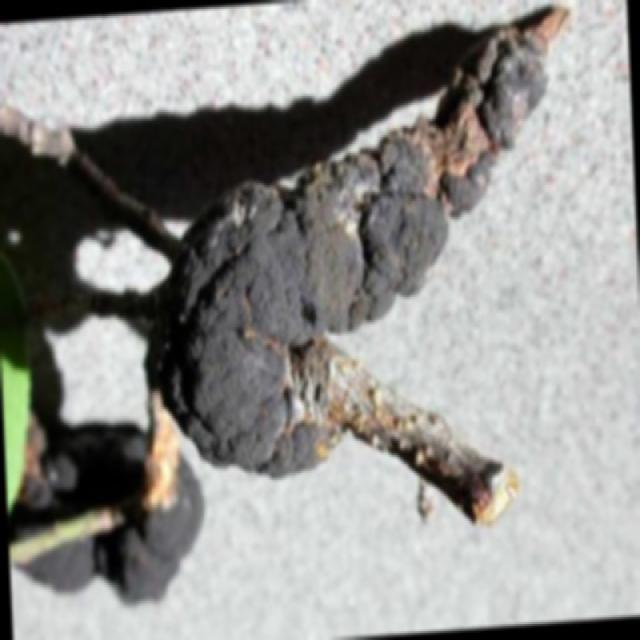Black_knot: (0, 0, 572, 596)
